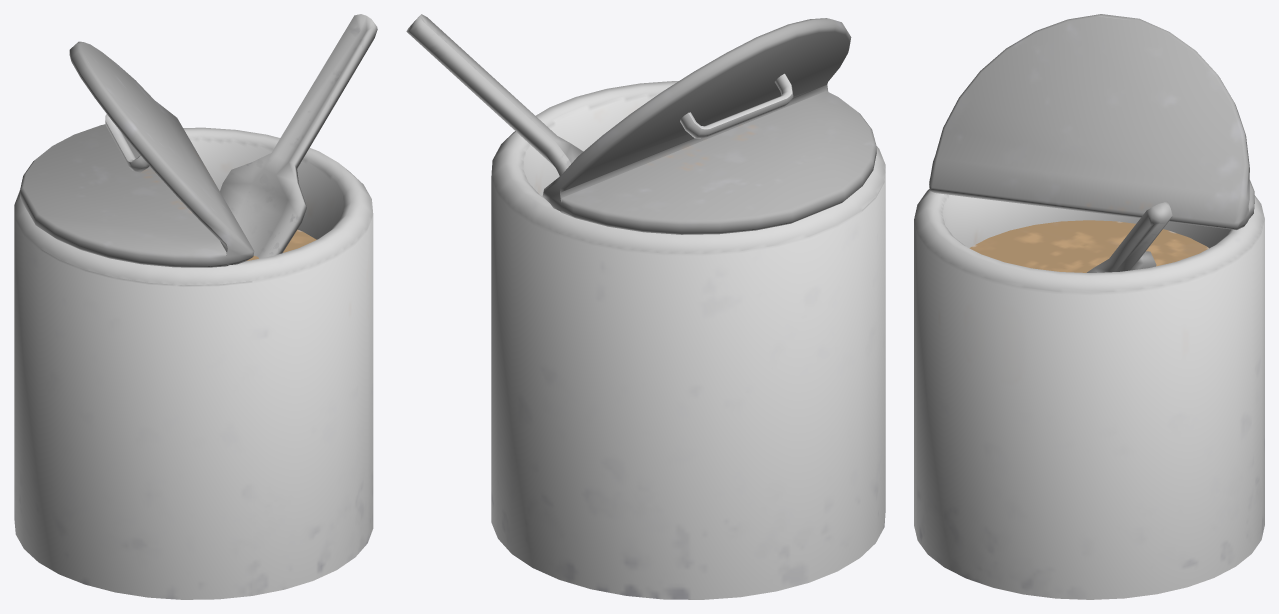
The model's file is FeederBucket00.fbx.
3 views of the same model, side by side, from view 1: azimuth 30°, elevation 25°; view 2: azimuth 150°, elevation 25°; view 3: azimuth 270°, elevation 25° (orthographic). The views are drawn at different scales.
Visible parts, largest first — view 1: FeederBucket00; view 2: FeederBucket00; view 3: FeederBucket00.
Part boxes in pixels (x1,y1,x2,y2): FeederBucket00: (14, 14, 377, 599); FeederBucket00: (406, 14, 885, 599); FeederBucket00: (914, 14, 1264, 599).
Size of the model in its own units: 240 by 292 by 200.
1 material, 1 textured.
